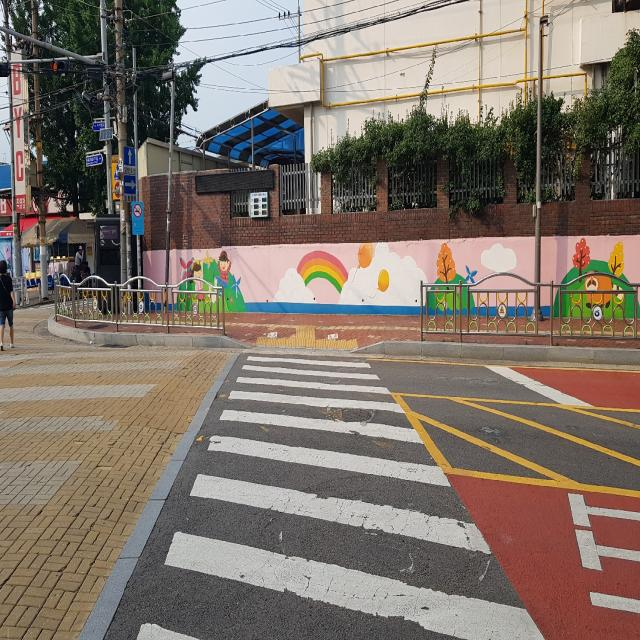횡단보도: (134, 352, 547, 640)
